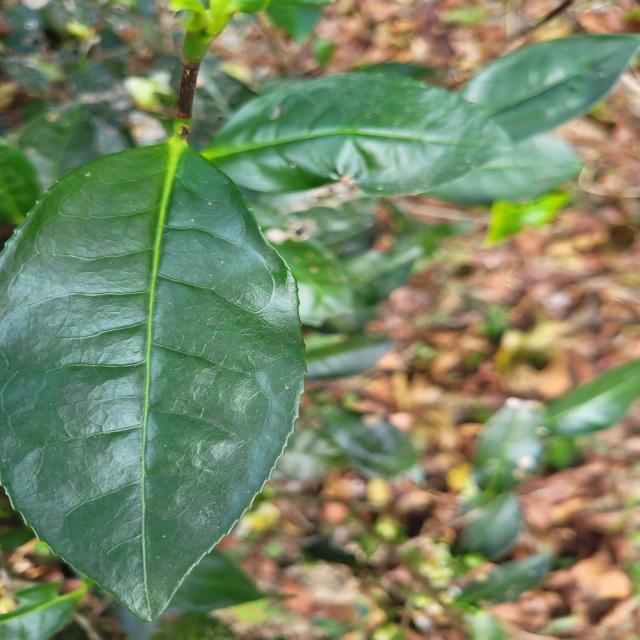Category D(7+ days, Not for Tea): (0, 98, 323, 640)
